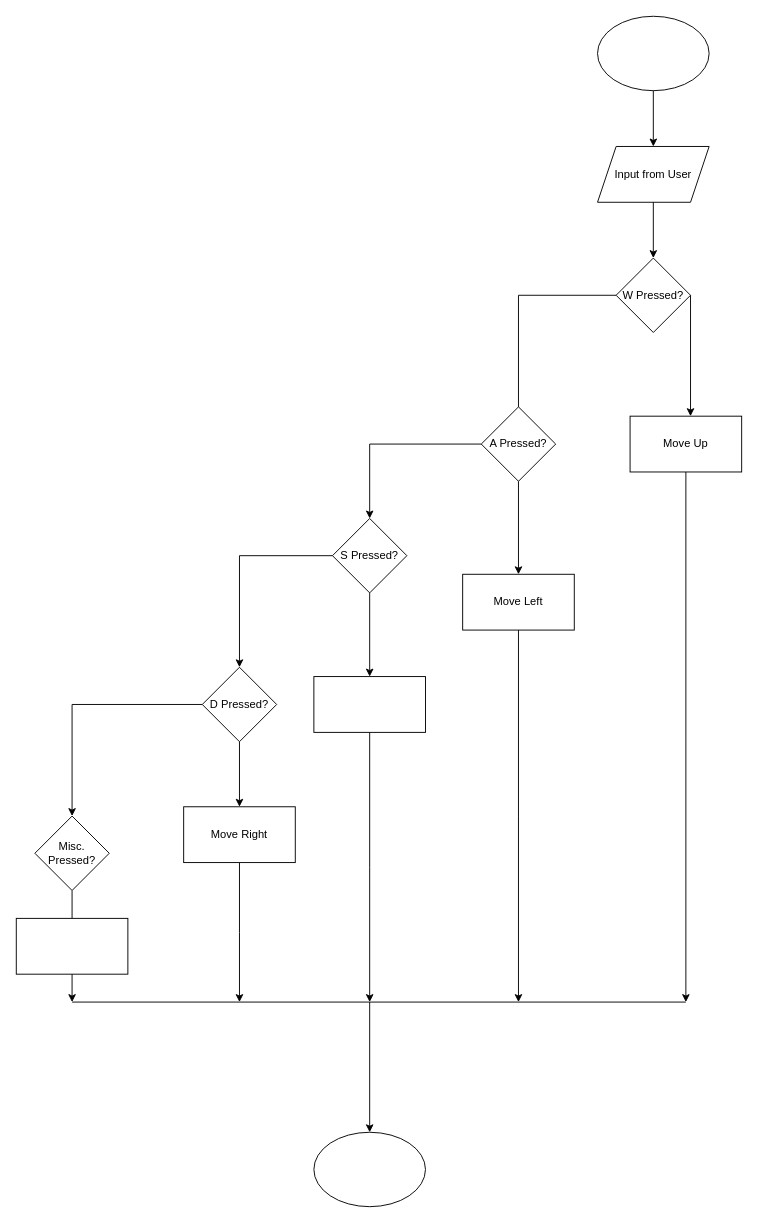
Image size: 758x1223. Some labels were removed from this diagram. Each missing label, with the centre of its shape:
"Do Action (e.g. open inventory)" belongs at pixel 71 945.
"END" belongs at pixel 369 1169.
"Move Down" belongs at pixel 369 704.
"START" belongs at pixel 653 53.
